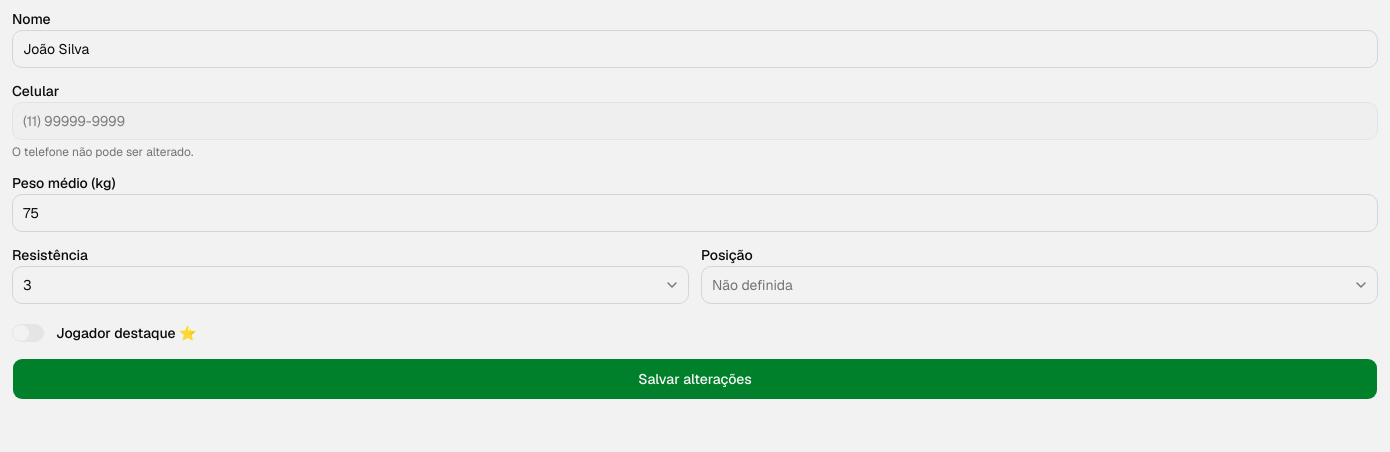
Scenario: EditPlayerForm › submission › shows 'Dados salvos com sucesso!' after successful save
Click the button "Salvar alterações". click: (695, 379)
box: [12,358,1378,400]
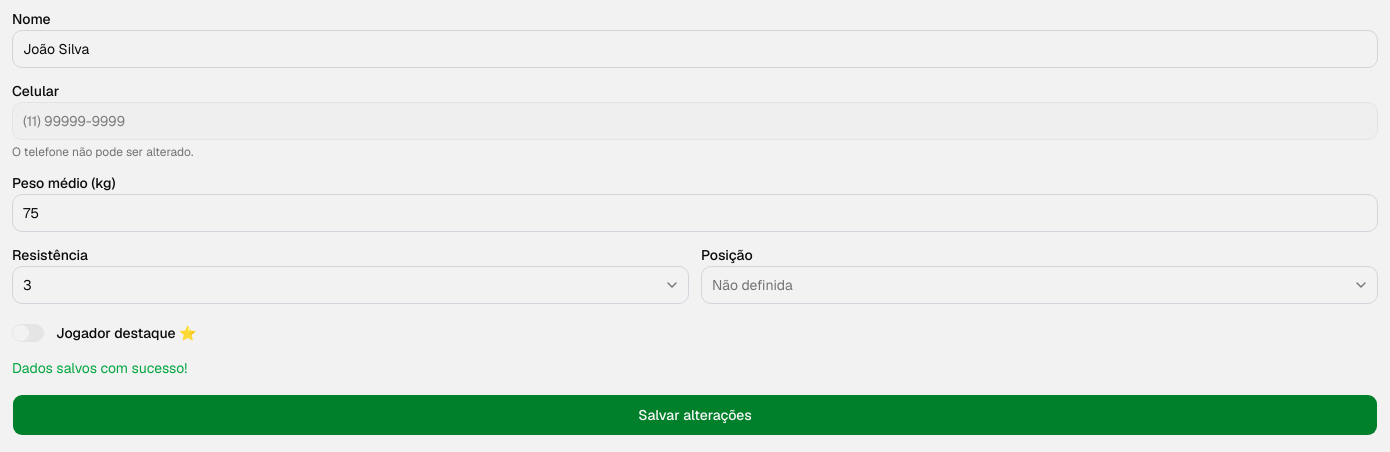
Check: the text "Dados salvos com sucesso!" is shown, box [12,359,187,377]
